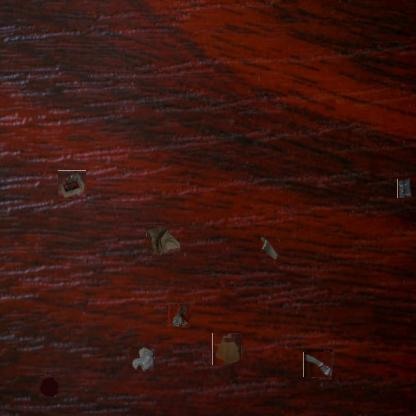dirty: (146, 224, 180, 256), (58, 170, 86, 199), (305, 350, 333, 379), (130, 346, 155, 372), (167, 305, 190, 327), (262, 238, 280, 262), (397, 178, 412, 198)
liquid: (212, 334, 242, 365), (39, 375, 59, 397)
